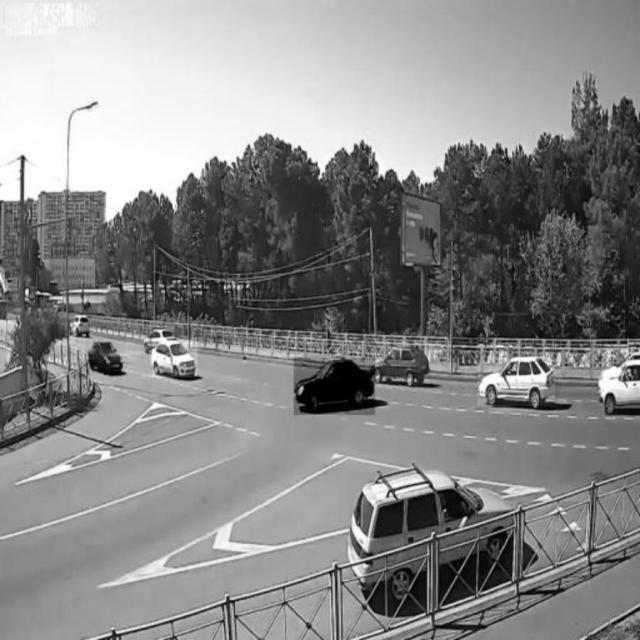vehicle: (348, 471, 514, 591), (294, 357, 375, 415), (478, 357, 555, 407), (375, 341, 429, 387), (601, 357, 640, 414), (152, 339, 198, 379), (85, 336, 125, 376), (69, 311, 91, 336)
